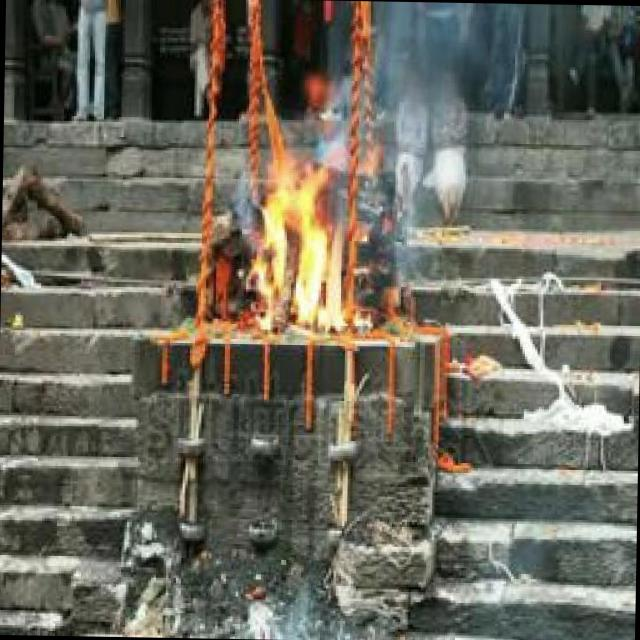Fire: (252, 165, 346, 332)
